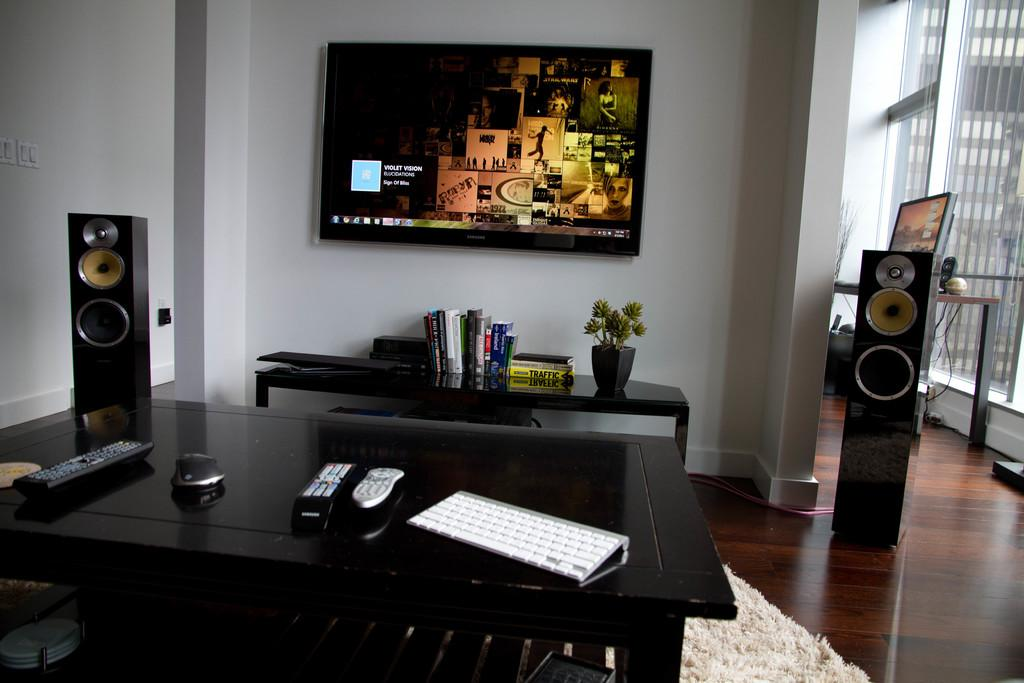Computer-keyboard: (401, 488, 631, 584), (9, 436, 156, 492)
